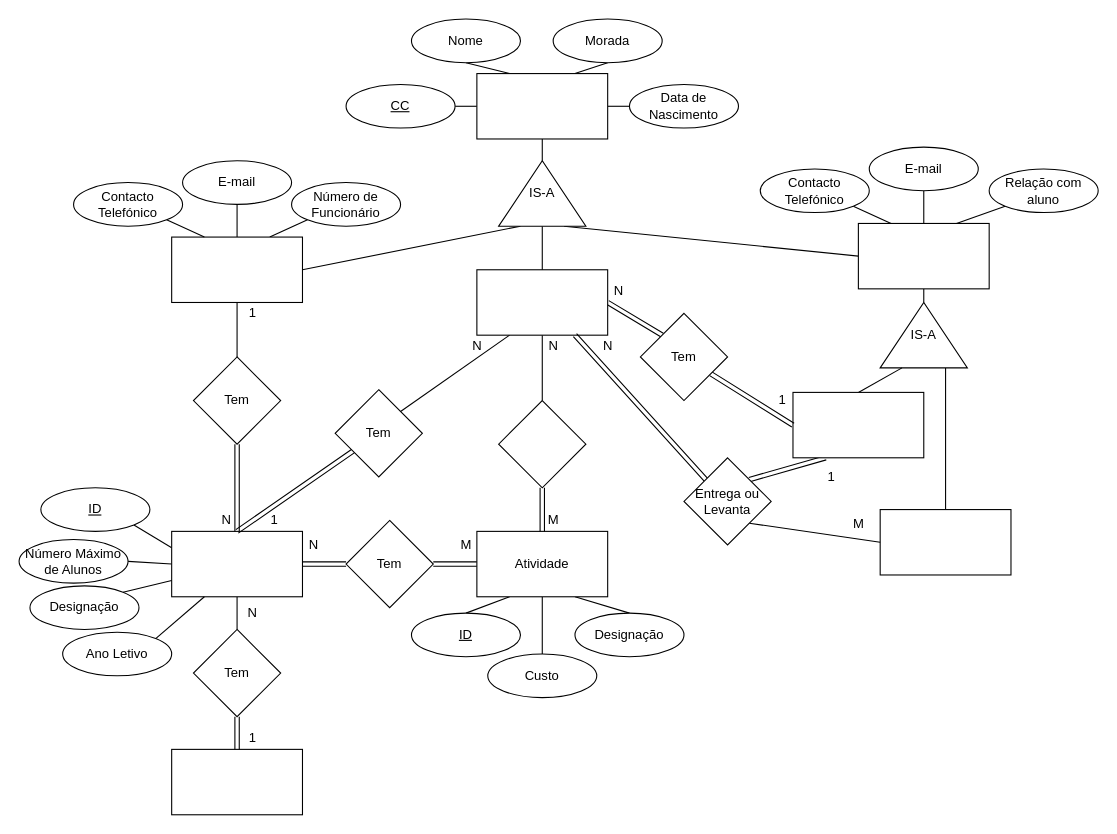
Some shapes in this 1117 by 834 pixel diagram are drawn without their labels. Here are the shapes that lost their labels. From the top down, the centre of each, then its label:
At point (542, 105): "Pessoa".
At point (236, 269): "Professor".
At point (923, 255): "Responsável".
At point (542, 302): "Aluno".
At point (542, 443): "Frequenta".
At point (858, 424): "Encarregado de Educação".
At point (945, 541): "Pessoa Autorizada".
At point (236, 563): "Turma".
At point (236, 781): "ATL".
